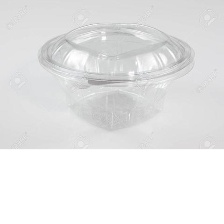plastic_box: (29, 14, 202, 136)
